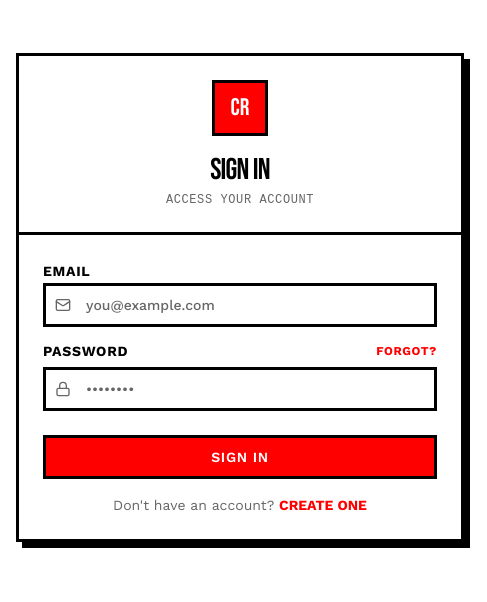
Test: Login page › shows error on failed login
Type "bad@test.com" into the field labelled "Email" at (240, 304), box [43,282,437,326]
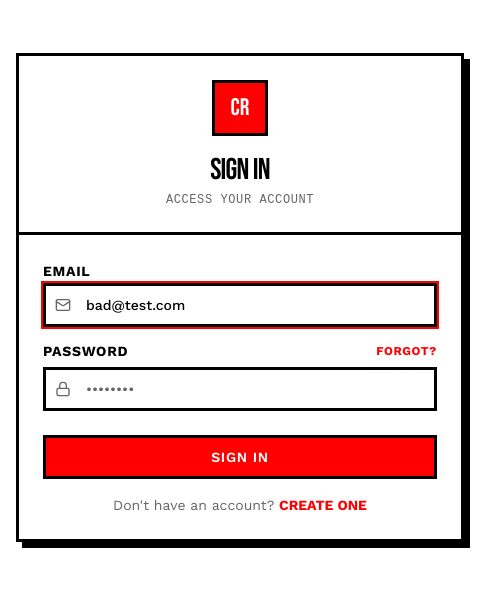
Type "wrongpass" into the password field labelled "Password" at (240, 388), box [43,366,437,410]
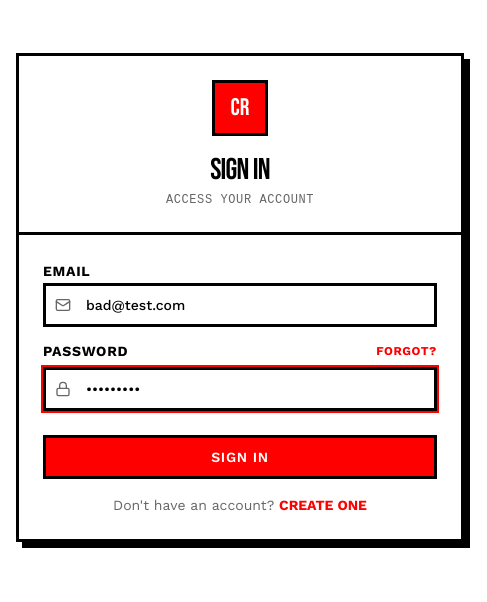
Click the button "Sign In" at (240, 456), box [43,434,437,478]
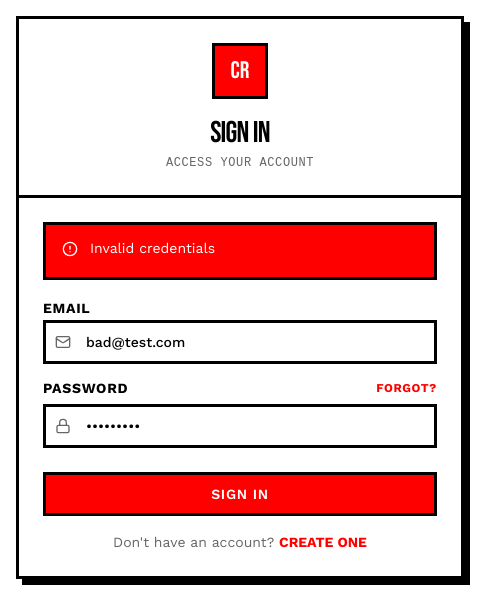
Result: the text "Invalid credentials" is shown at [90,240,215,256]
